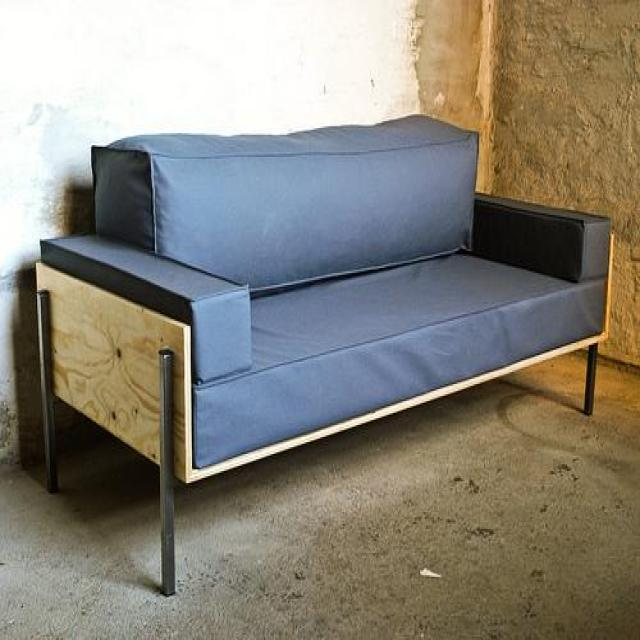sofa: (34, 110, 614, 590)
